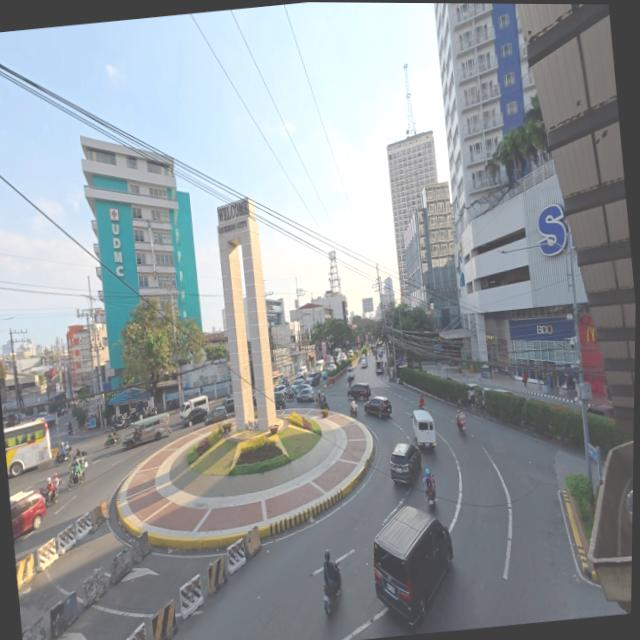Jeepneys: (124, 413, 171, 449), (376, 360, 385, 374)
bus: (4, 419, 51, 476)
car: (10, 491, 45, 540), (390, 442, 421, 483), (364, 396, 392, 418), (182, 407, 207, 427), (347, 383, 371, 401), (205, 407, 227, 425), (467, 383, 481, 404), (290, 378, 307, 394), (296, 388, 314, 402), (274, 392, 287, 409), (307, 371, 321, 386), (222, 396, 234, 413), (322, 364, 336, 378), (296, 382, 312, 393), (345, 365, 355, 380), (274, 384, 287, 395), (299, 366, 308, 375), (361, 357, 368, 368), (346, 349, 353, 358)
motorcycle: (323, 564, 341, 616), (67, 467, 85, 491), (40, 487, 59, 506), (55, 446, 72, 465), (104, 430, 121, 448), (426, 488, 436, 509), (457, 412, 466, 435), (314, 392, 323, 405), (321, 398, 329, 410), (350, 405, 358, 417), (68, 426, 73, 437), (419, 402, 425, 410), (348, 378, 352, 387)
vans: (374, 506, 453, 623), (413, 410, 436, 447), (180, 396, 209, 419)
